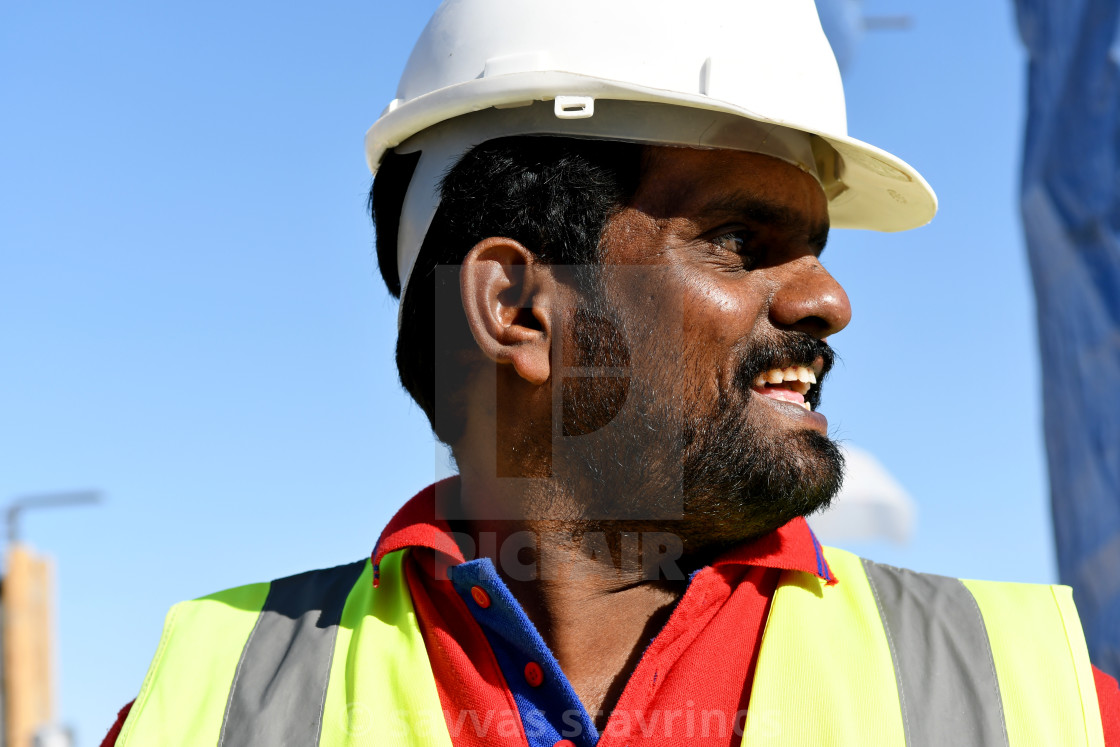Person_wearing_helmet: (356, 0, 932, 335)
